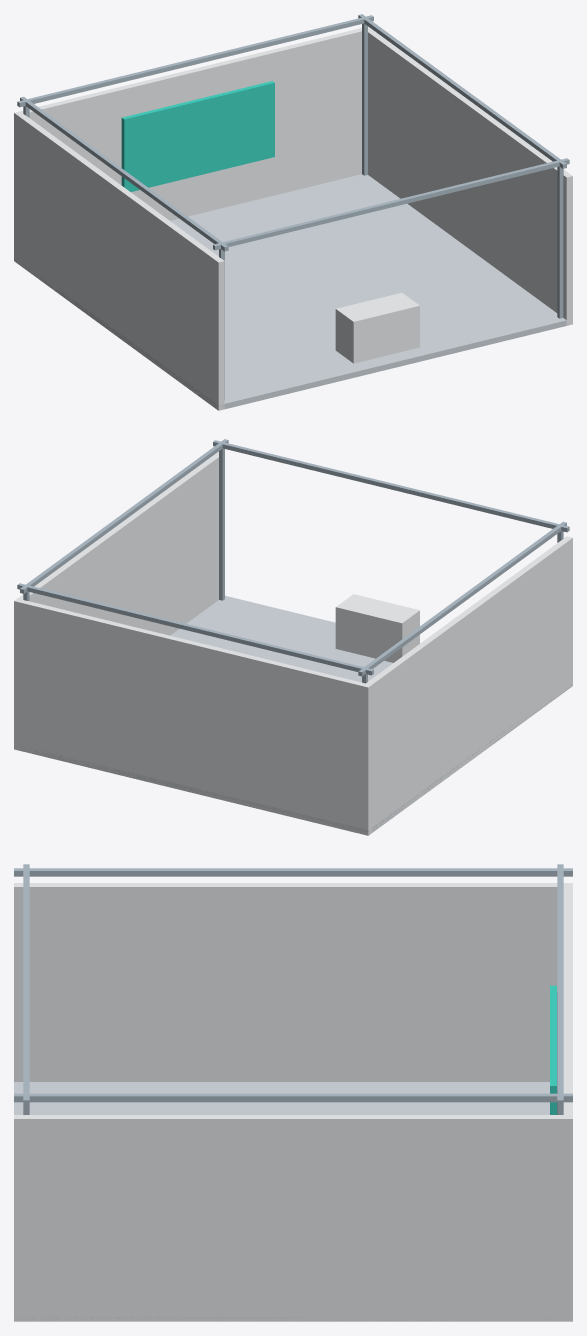
3 renders of one model, top to bottom at view 1: azimuth 30°, elevation 25°; view 2: azimuth 150°, elevation 25°; view 3: azimuth 270°, elevation 25°, orthographic. The views are drawn at different scales.
Visible parts, largest first — view 1: Exhibition Booth Concept; view 2: Exhibition Booth Concept; view 3: Exhibition Booth Concept.
Boxes of the visible parts, x1=… form: Exhibition Booth Concept: x1=14, y1=14, x2=572, y2=410; Exhibition Booth Concept: x1=14, y1=439, x2=572, y2=835; Exhibition Booth Concept: x1=14, y1=864, x2=572, y2=1321.
Size of the model in its own units: 8 by 3.49 by 8.
